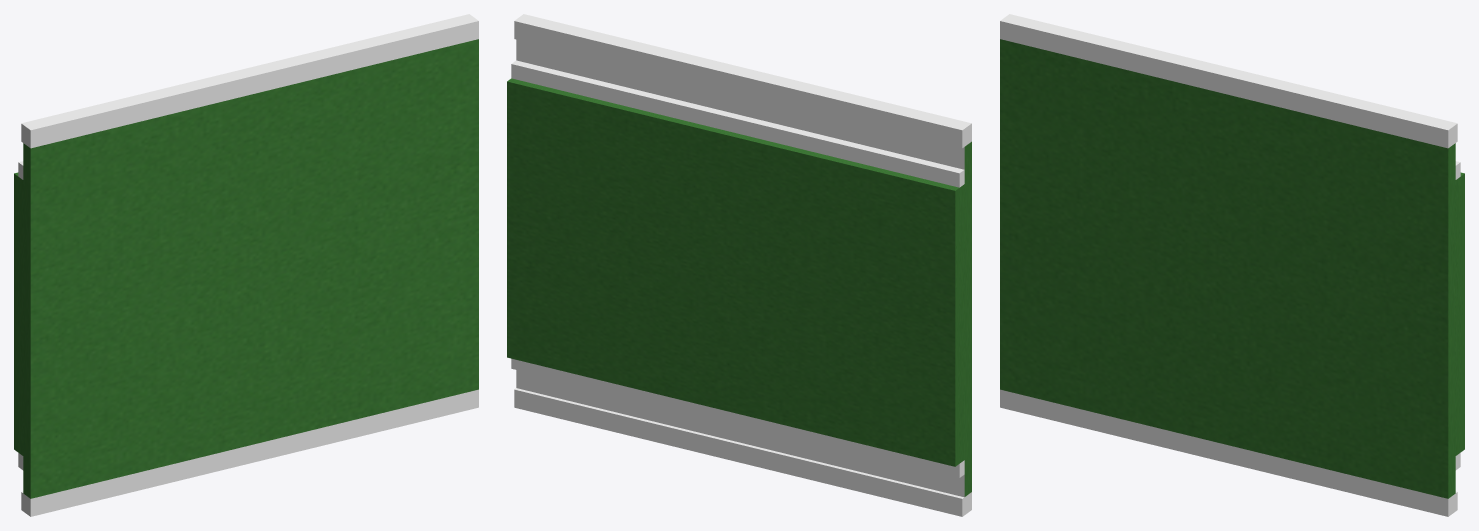
File: venice_road_11.fbx
3 views of the same model, side by side, from view 1: azimuth 30°, elevation 25°; view 2: azimuth 150°, elevation 25°; view 3: azimuth 330°, elevation 25° (orthographic).
Parts seen in each view (by area): view 1: Cube.298; view 2: Cube.298; view 3: Cube.298.
Boxes of the visible parts, <box> form: Cube.298: <box>14,14,478,516</box>; Cube.298: <box>507,14,971,516</box>; Cube.298: <box>1000,14,1464,516</box>.
Size of the model in its own units: 1723 by 1420 by 111.
